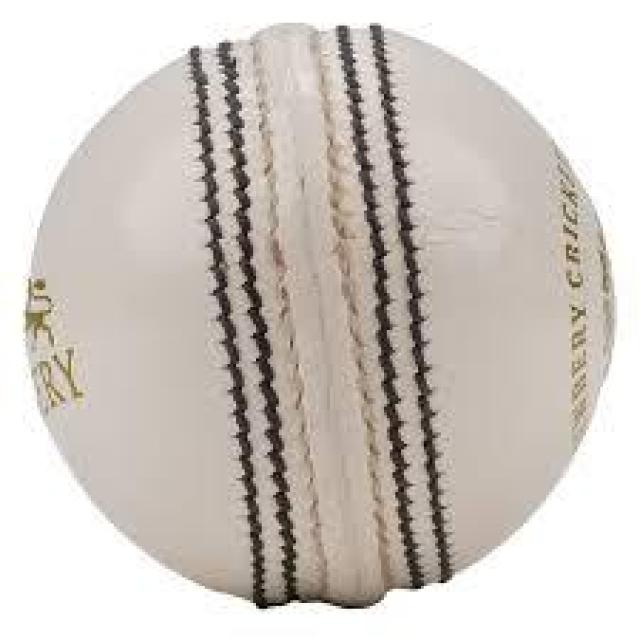ball: (28, 26, 614, 614)
